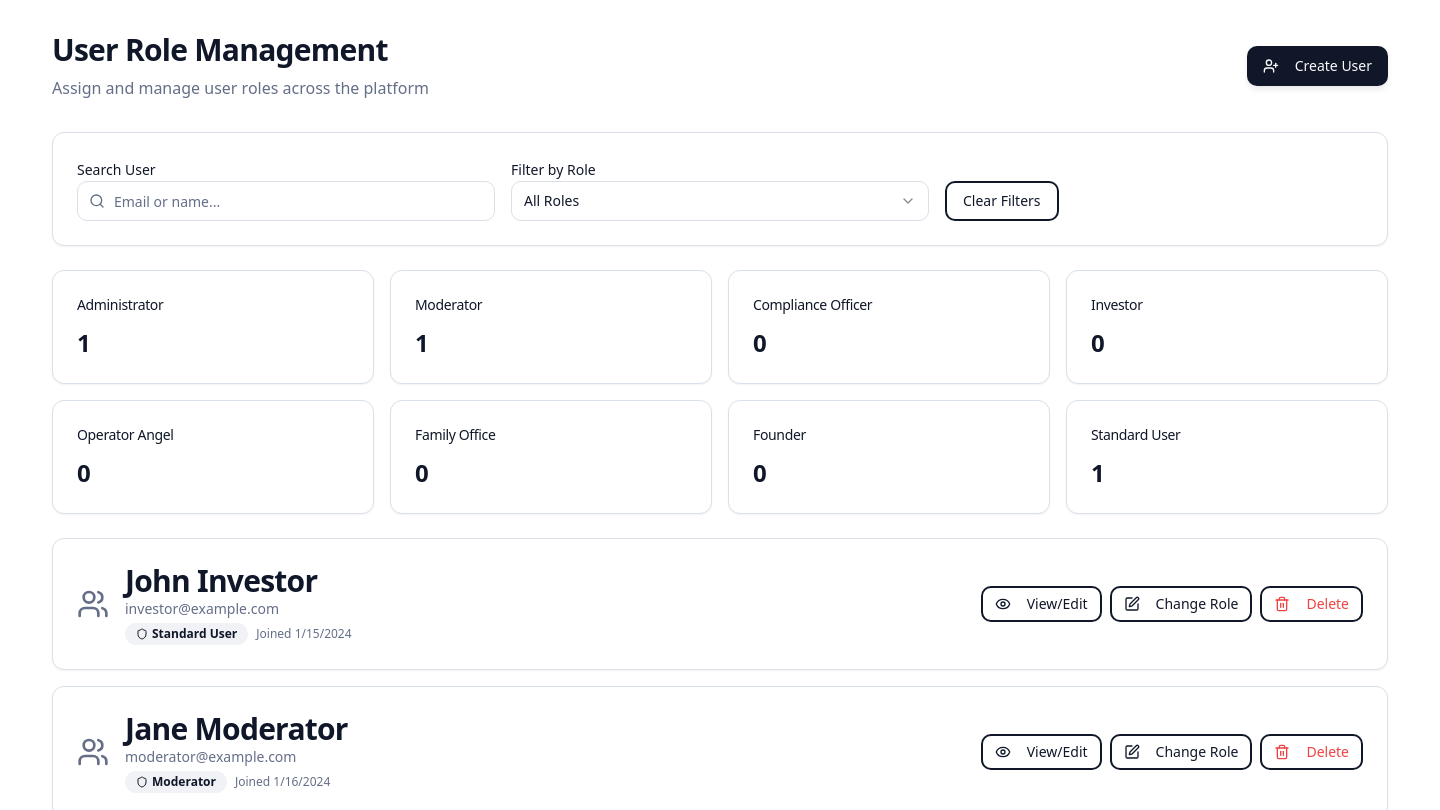
Test: US-ADMIN-CRUD-001: User Delete › should close confirmation dialog when clicking cancel
The image size is (1440, 810).
Check: the heading "John Investor" is shown, box [125,560,317,601]
Click the button "Delete" in the row of "John Investor". click: (1312, 604)
box: [1260,586,1363,622]
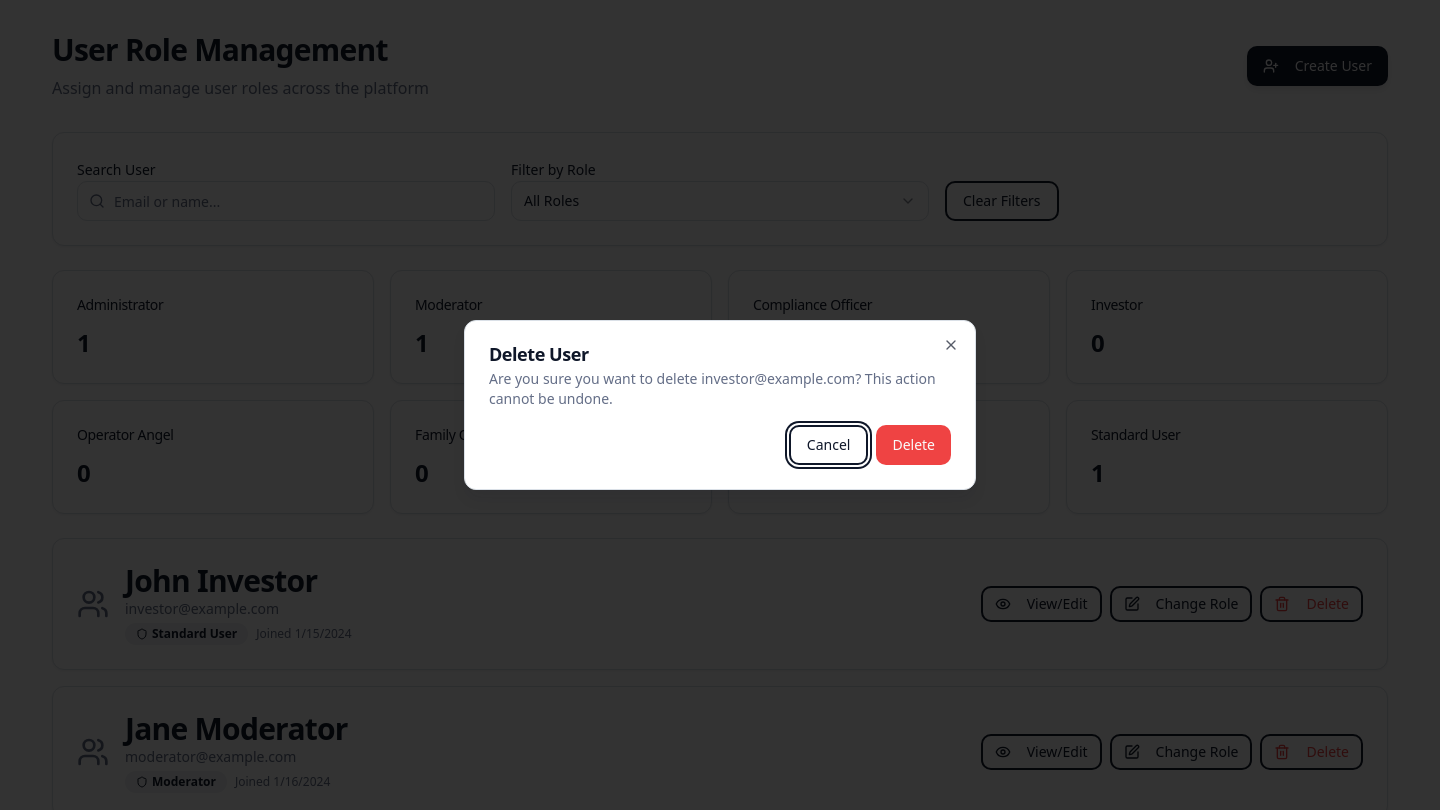
Check: the text "Are you sure" is shown, box [489,369,701,388]
Click the button "Cancel". click: (829, 445)
box: [789,425,868,465]
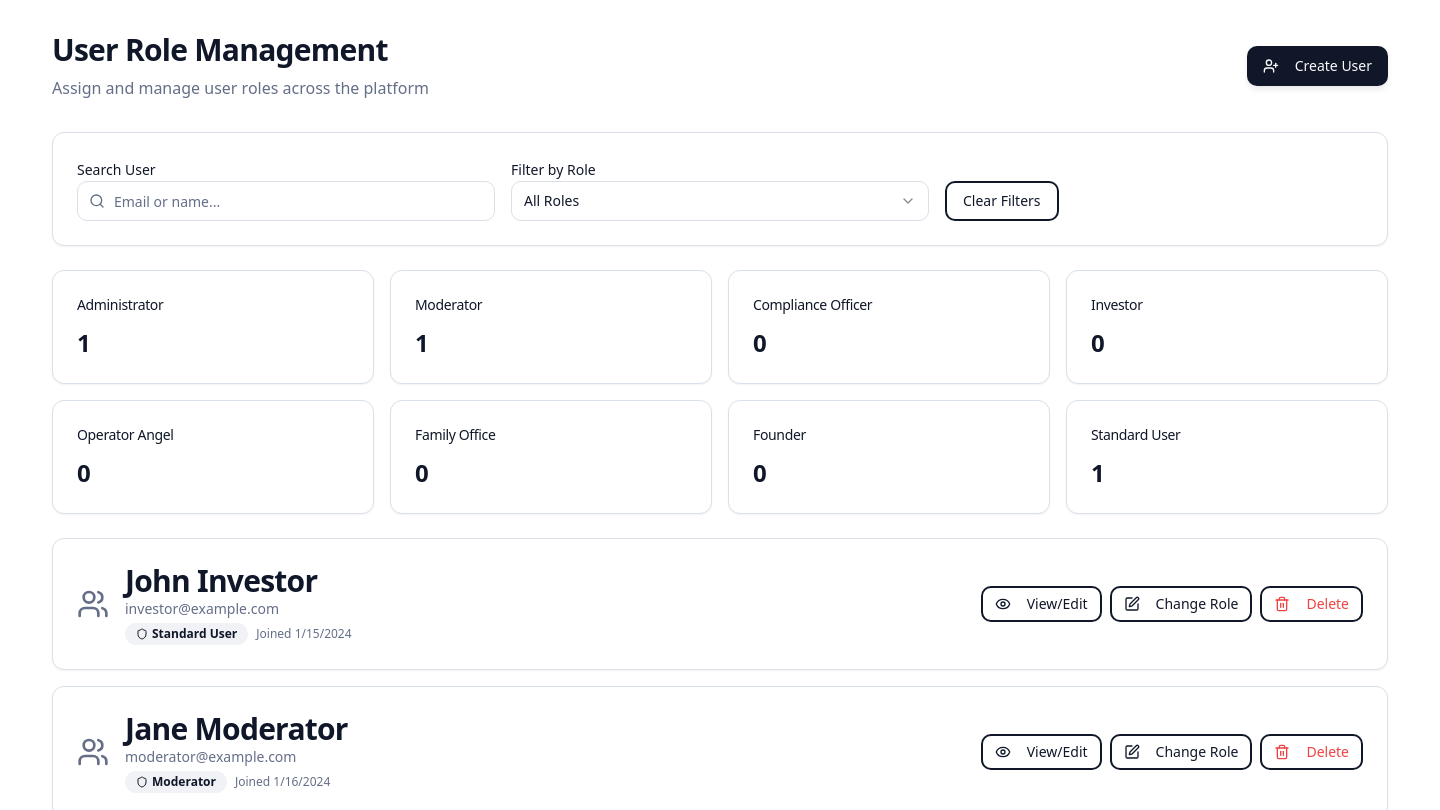
Check: the text "Are you sure" is gone
